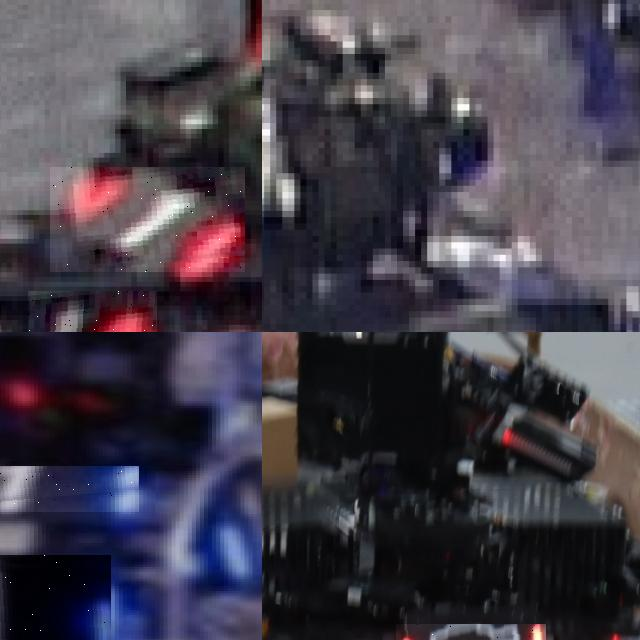B1: (0, 555, 110, 640), (0, 466, 139, 511)
R1: (50, 167, 245, 272), (28, 291, 158, 332)
